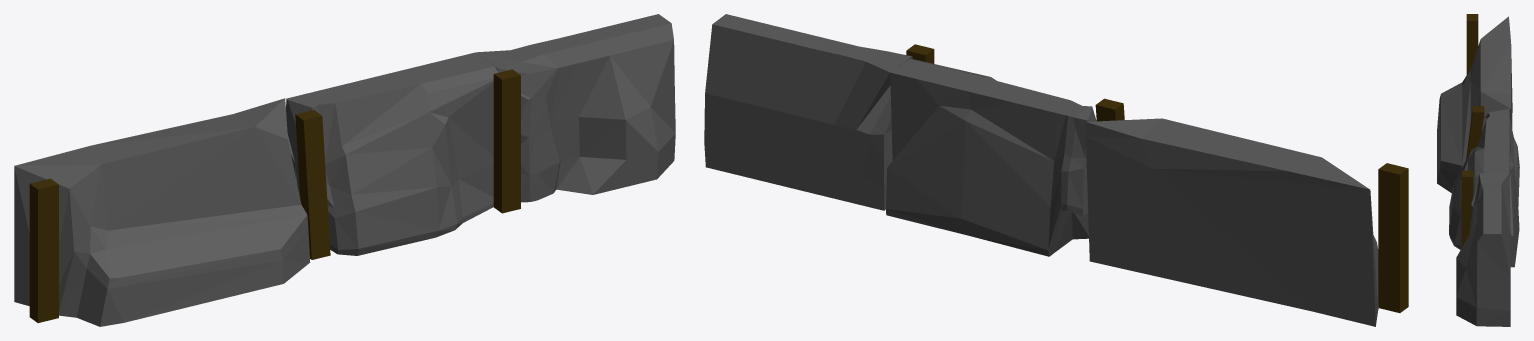
Rendered from Stone_Wall_02.fbx.
3 renders of one model, left to right at view 1: azimuth 30°, elevation 25°; view 2: azimuth 150°, elevation 25°; view 3: azimuth 270°, elevation 25°, orthographic. The views are drawn at different scales.
Visible parts, largest first — view 1: prop_stone_wall; view 2: prop_stone_wall; view 3: prop_stone_wall.
Boxes of the visible parts, <box> form: prop_stone_wall: <box>14,14,675,326</box>; prop_stone_wall: <box>704,14,1408,326</box>; prop_stone_wall: <box>1437,14,1519,326</box>.
Bounding box in the file's own units: 1987 × 395 × 315.
